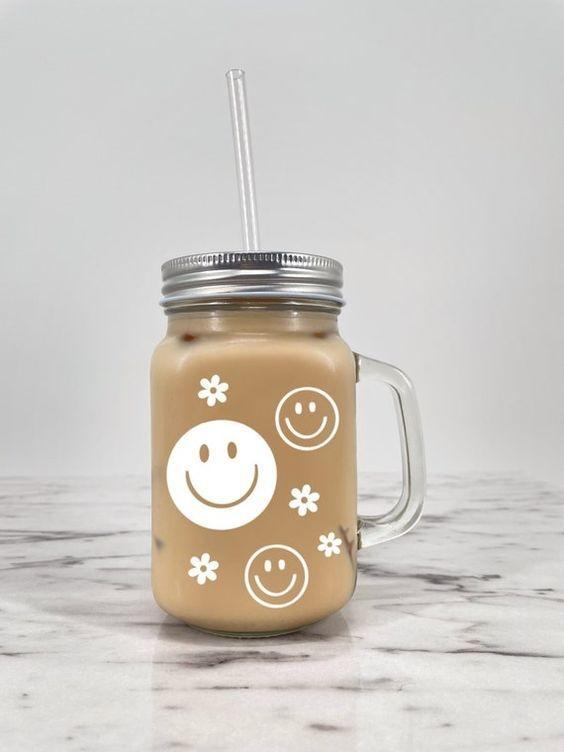glass-mug: (143, 244, 433, 640)
